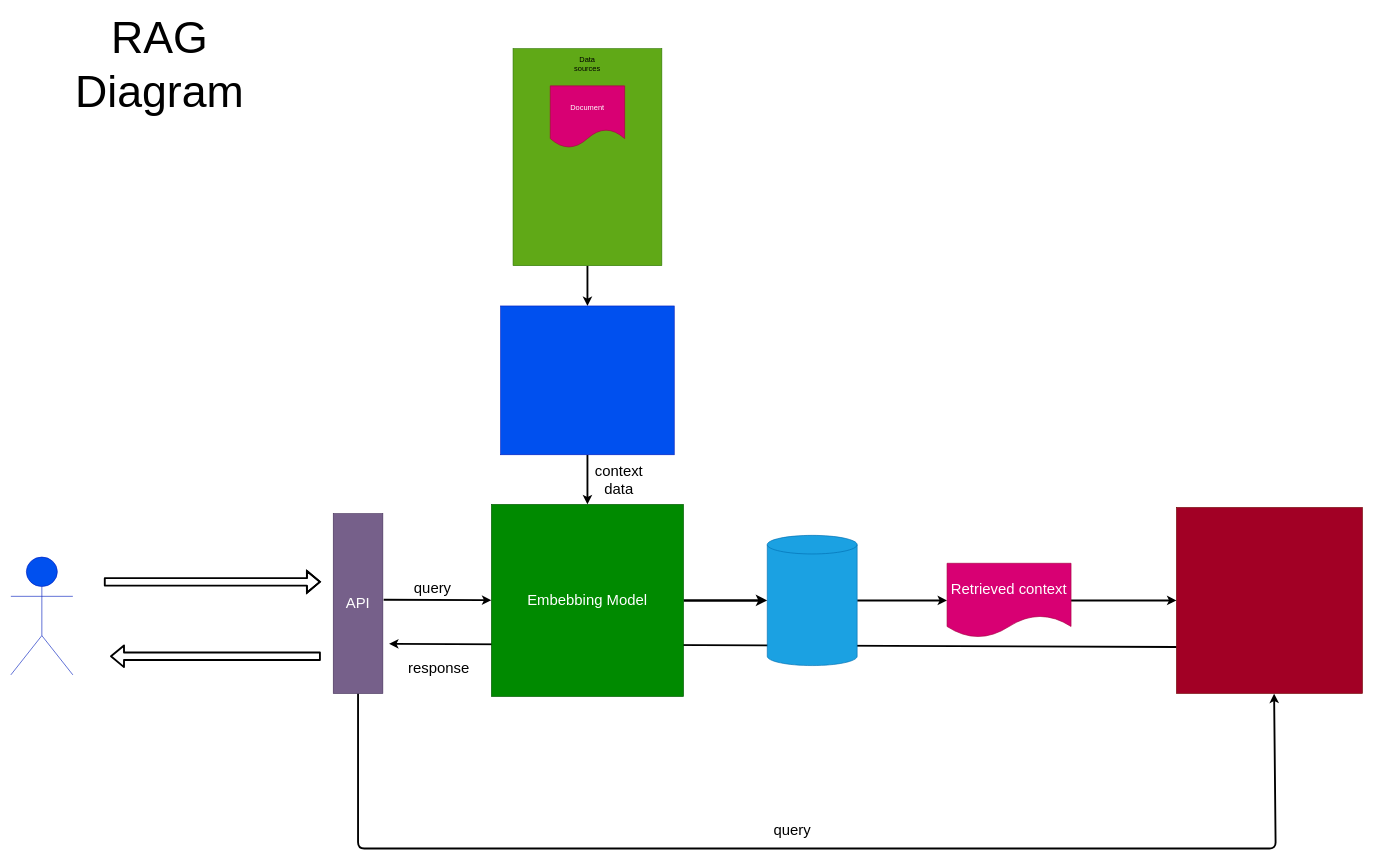
This 1373x865 diagram has some shape labels left out. The shapes that lost their labels are listed below. From the top down, each one's centre as x and y in pixels, then its label:
the point at 587,380: Data Extractor
the point at 812,600: Vector Store
the point at 1269,600: LLM
